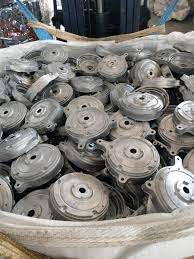metal: (93, 130, 166, 193), (6, 134, 70, 197), (136, 152, 194, 218), (46, 168, 111, 223), (57, 102, 115, 150), (111, 85, 168, 127), (19, 96, 64, 135), (1, 127, 40, 164), (92, 48, 132, 84), (33, 77, 78, 107), (165, 98, 194, 143), (163, 46, 193, 83), (131, 57, 161, 88), (39, 42, 73, 69), (1, 99, 29, 129)
